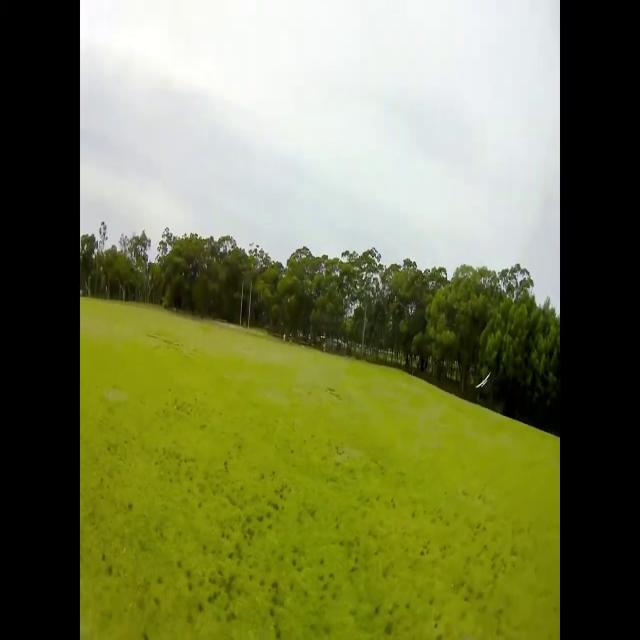iha: (476, 372, 490, 388)
